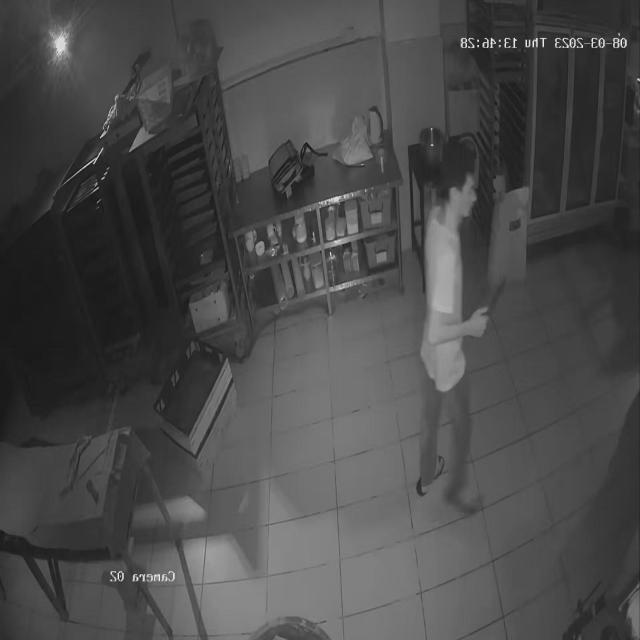Knife: (477, 267, 521, 331)
